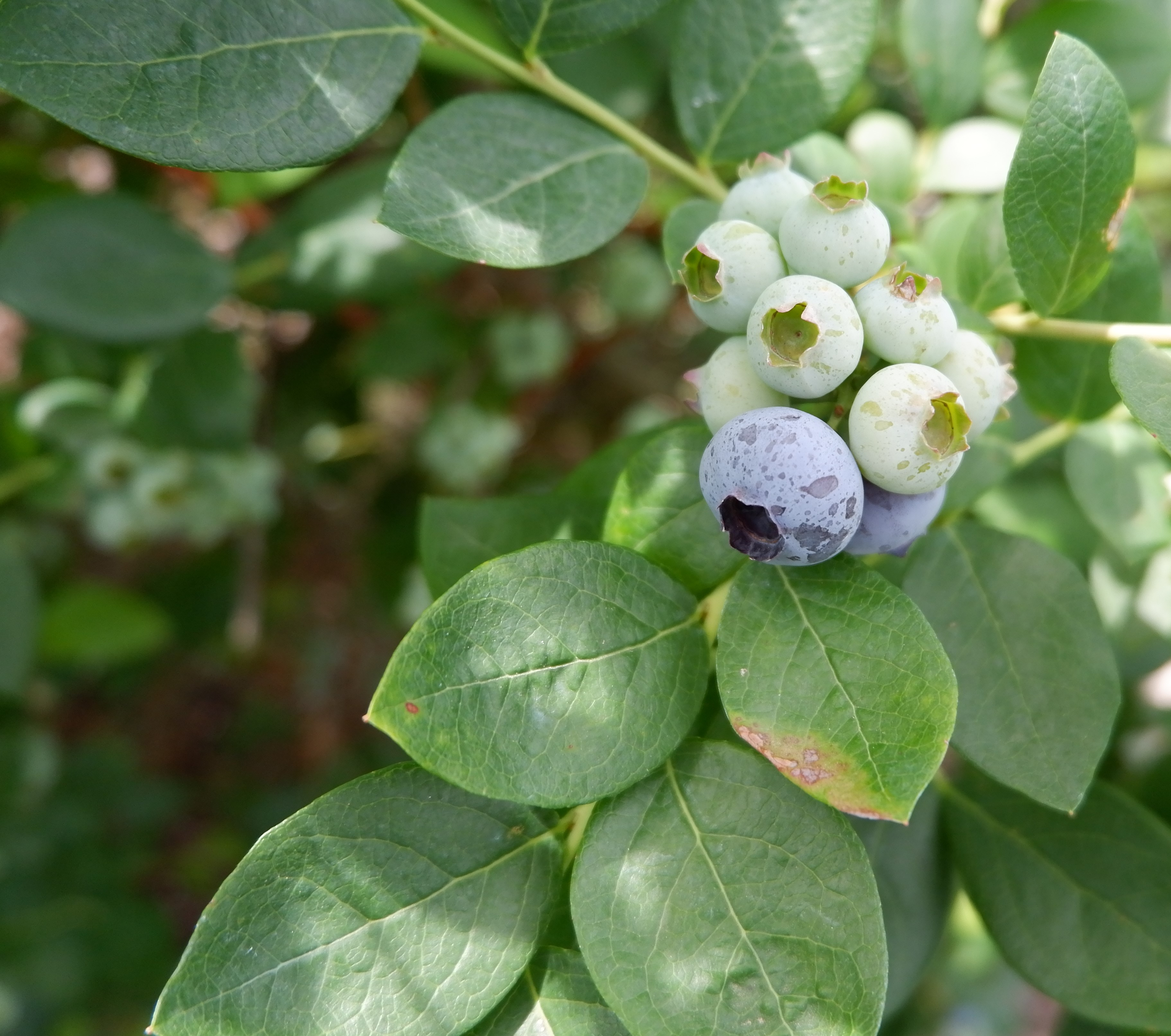Immature: (849, 365, 966, 488), (749, 276, 862, 396), (780, 180, 889, 287), (685, 220, 790, 330), (686, 340, 785, 435), (854, 267, 953, 361), (719, 153, 813, 239), (938, 332, 1014, 437)
Mature: (703, 406, 861, 562), (847, 478, 945, 557)
